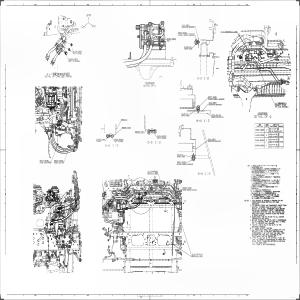PartNumber: (39, 160, 49, 162), (68, 58, 78, 60), (96, 138, 106, 140), (182, 187, 192, 189), (54, 160, 63, 162), (177, 161, 186, 163), (157, 135, 166, 137), (167, 38, 176, 40), (255, 134, 264, 136), (255, 144, 264, 146), (208, 96, 216, 98), (256, 129, 264, 131), (256, 139, 264, 141), (114, 139, 124, 140), (73, 51, 82, 52)
